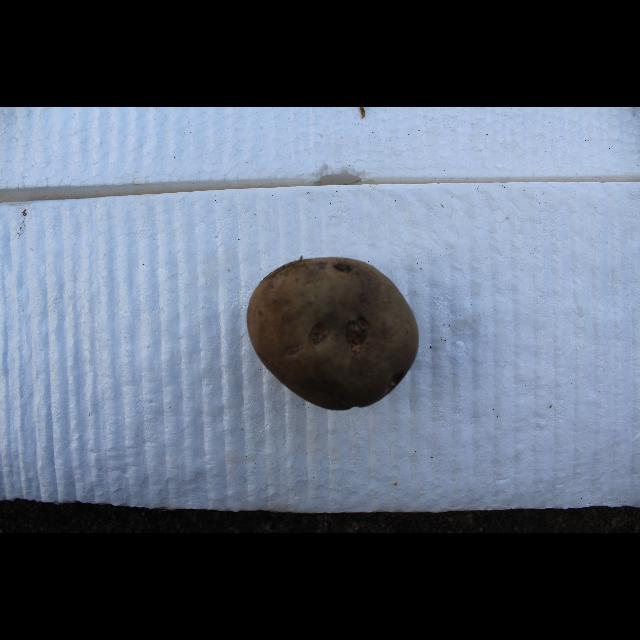Diseased-fungal potato: (220, 227, 396, 383)
